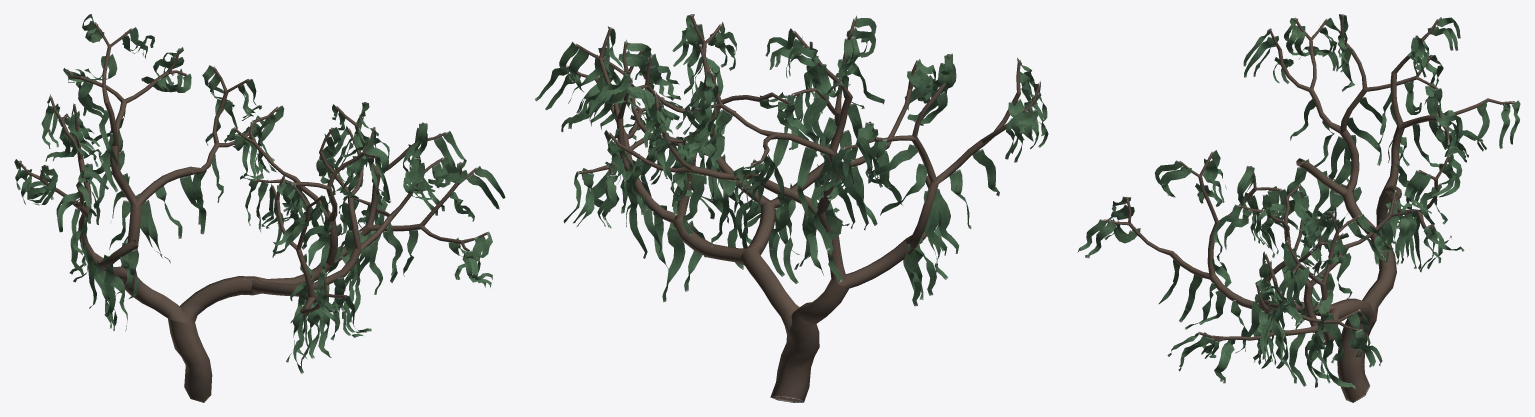
The model's file is Willow.fbx.
The picture shows the model from 3 angles, left to right: view 1: azimuth 30°, elevation 25°; view 2: azimuth 150°, elevation 25°; view 3: azimuth 270°, elevation 25°; orthographic projection. The views are drawn at different scales.
Visible parts, largest first — view 1: willow4Leaf, willow4Main; view 2: willow4Leaf, willow4Main; view 3: willow4Leaf, willow4Main.
Boxes of the visible parts, box(x1,y1,x2,y2) form: willow4Leaf: box(14, 14, 505, 373); willow4Main: box(18, 22, 487, 402); willow4Leaf: box(534, 14, 1048, 306); willow4Main: box(566, 14, 1040, 402); willow4Leaf: box(1077, 14, 1520, 388); willow4Main: box(1103, 14, 1514, 402).
Bounding box in the file's own units: 5.17 × 3.9 × 4.43.
